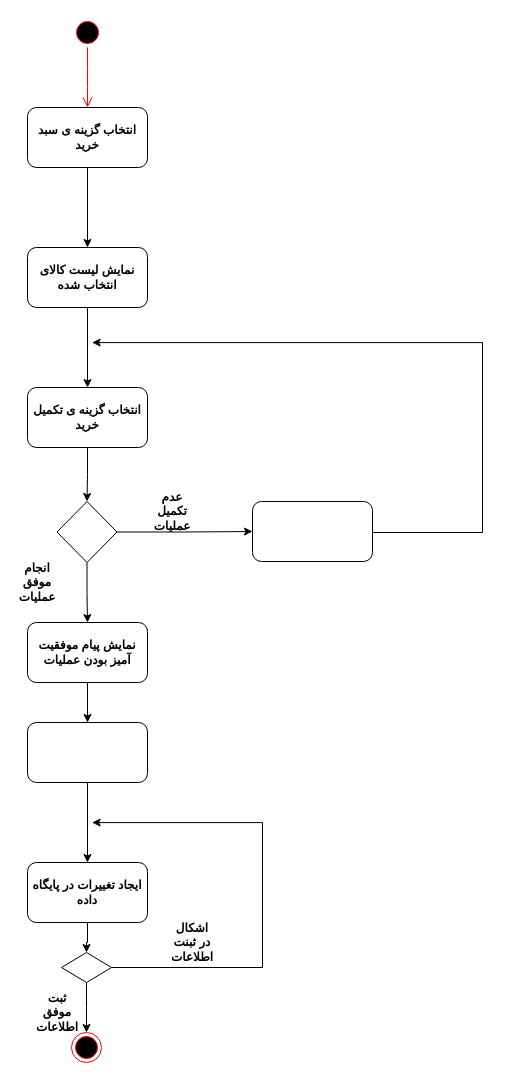
Some shapes in this 508 by 1080 pixel diagram are drawn without their labels. Here are the shapes that lost their labels. From the top down, the centre of each, then its label:
At [312,531]: "نمایش پیام عدم انجام عملیات".
At [87,752]: "ارسال اطلاعات برای سوپرمارکت".
